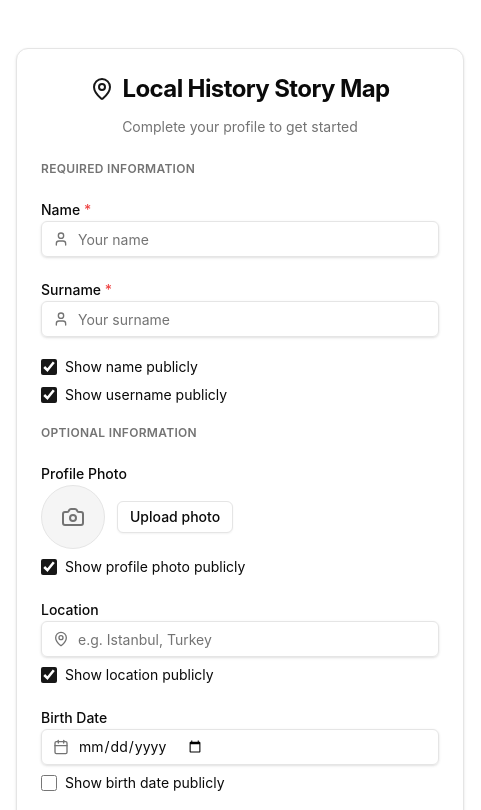
Test case: ProfileCompletionPage › shows error when surname is empty
In the field labelled "Name *": (240, 239) [41, 221, 439, 257], type "John"
(page scrolled)
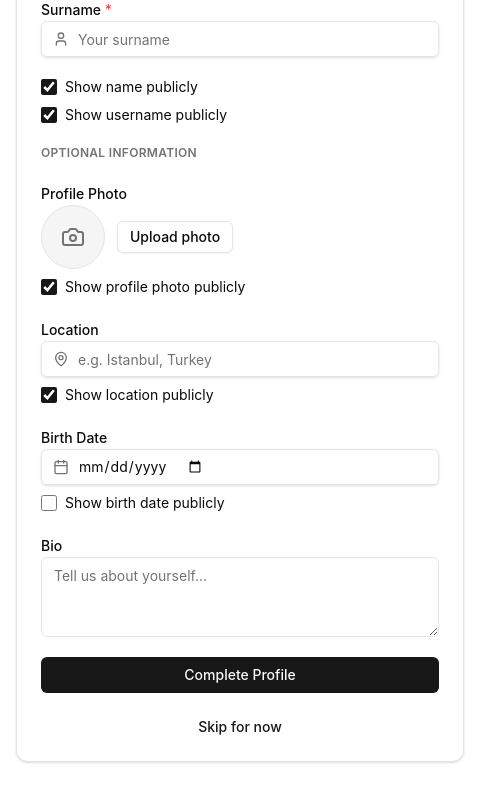
Click the button "Complete Profile": (240, 675) [41, 657, 439, 693]
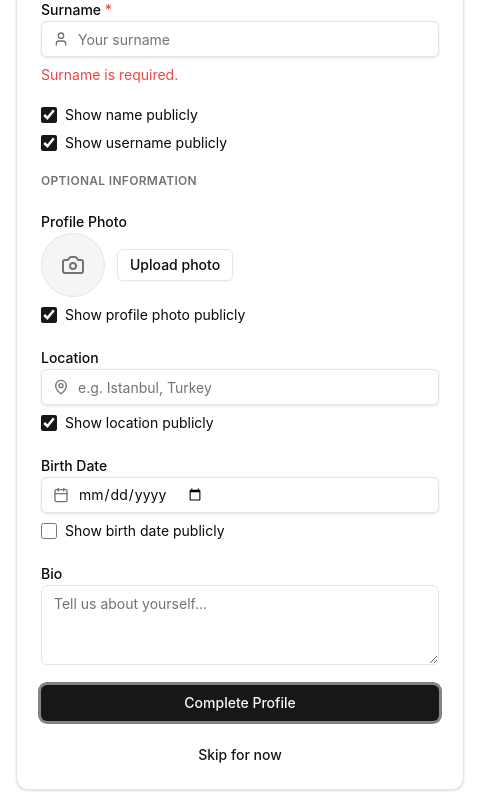
Now the text "Surname is required." is shown, box [41, 66, 178, 83]
